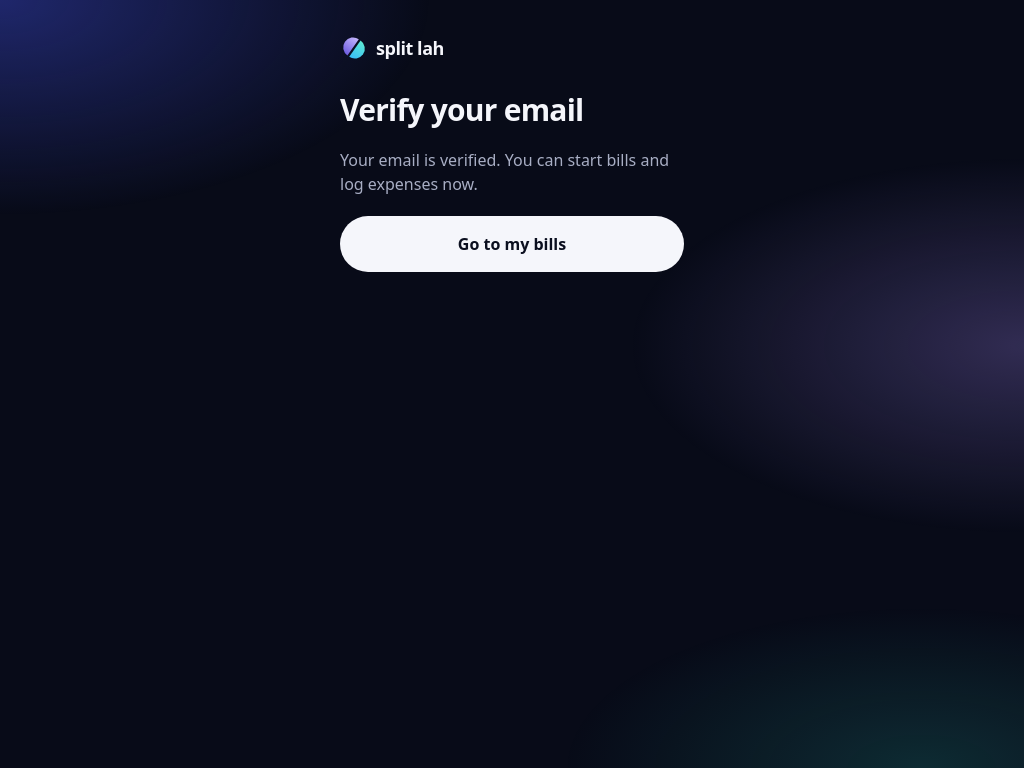
Test case: /verify (the link in the email) › refreshes a logged-in user so the banner goes away
Click the link "Go to my bills": (512, 244) [340,216,684,272]
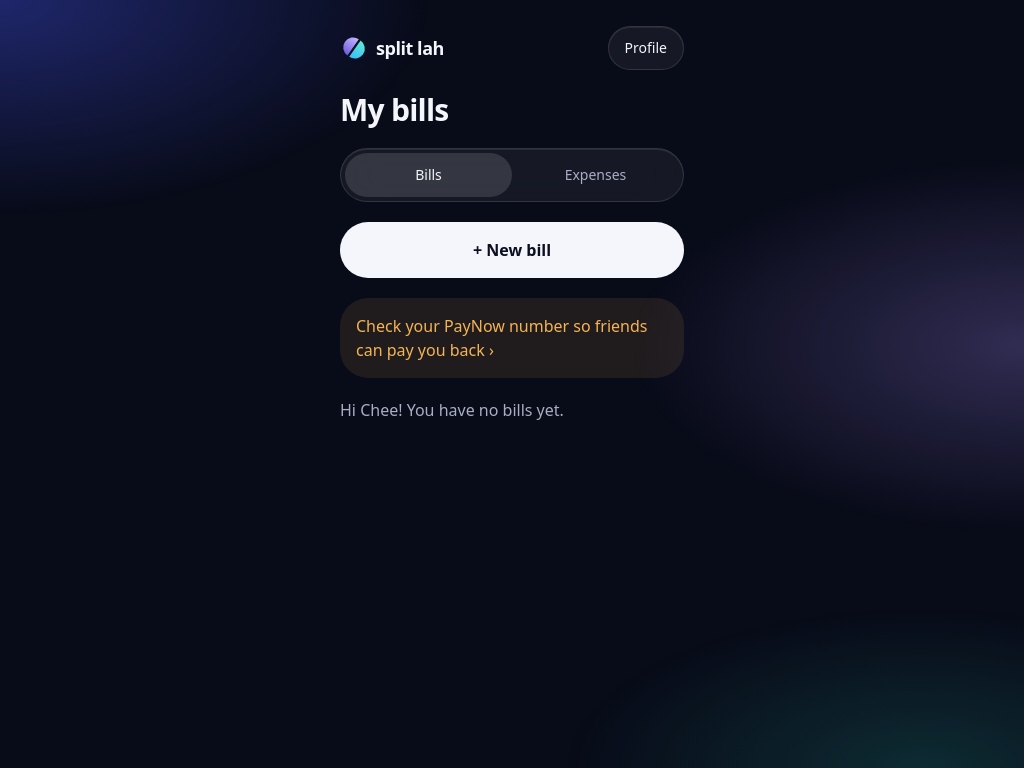
Result: the text "Hi Chee! You have no bills yet." is shown at [340,399,564,421]
Result: the heading "Verify your email" is gone
